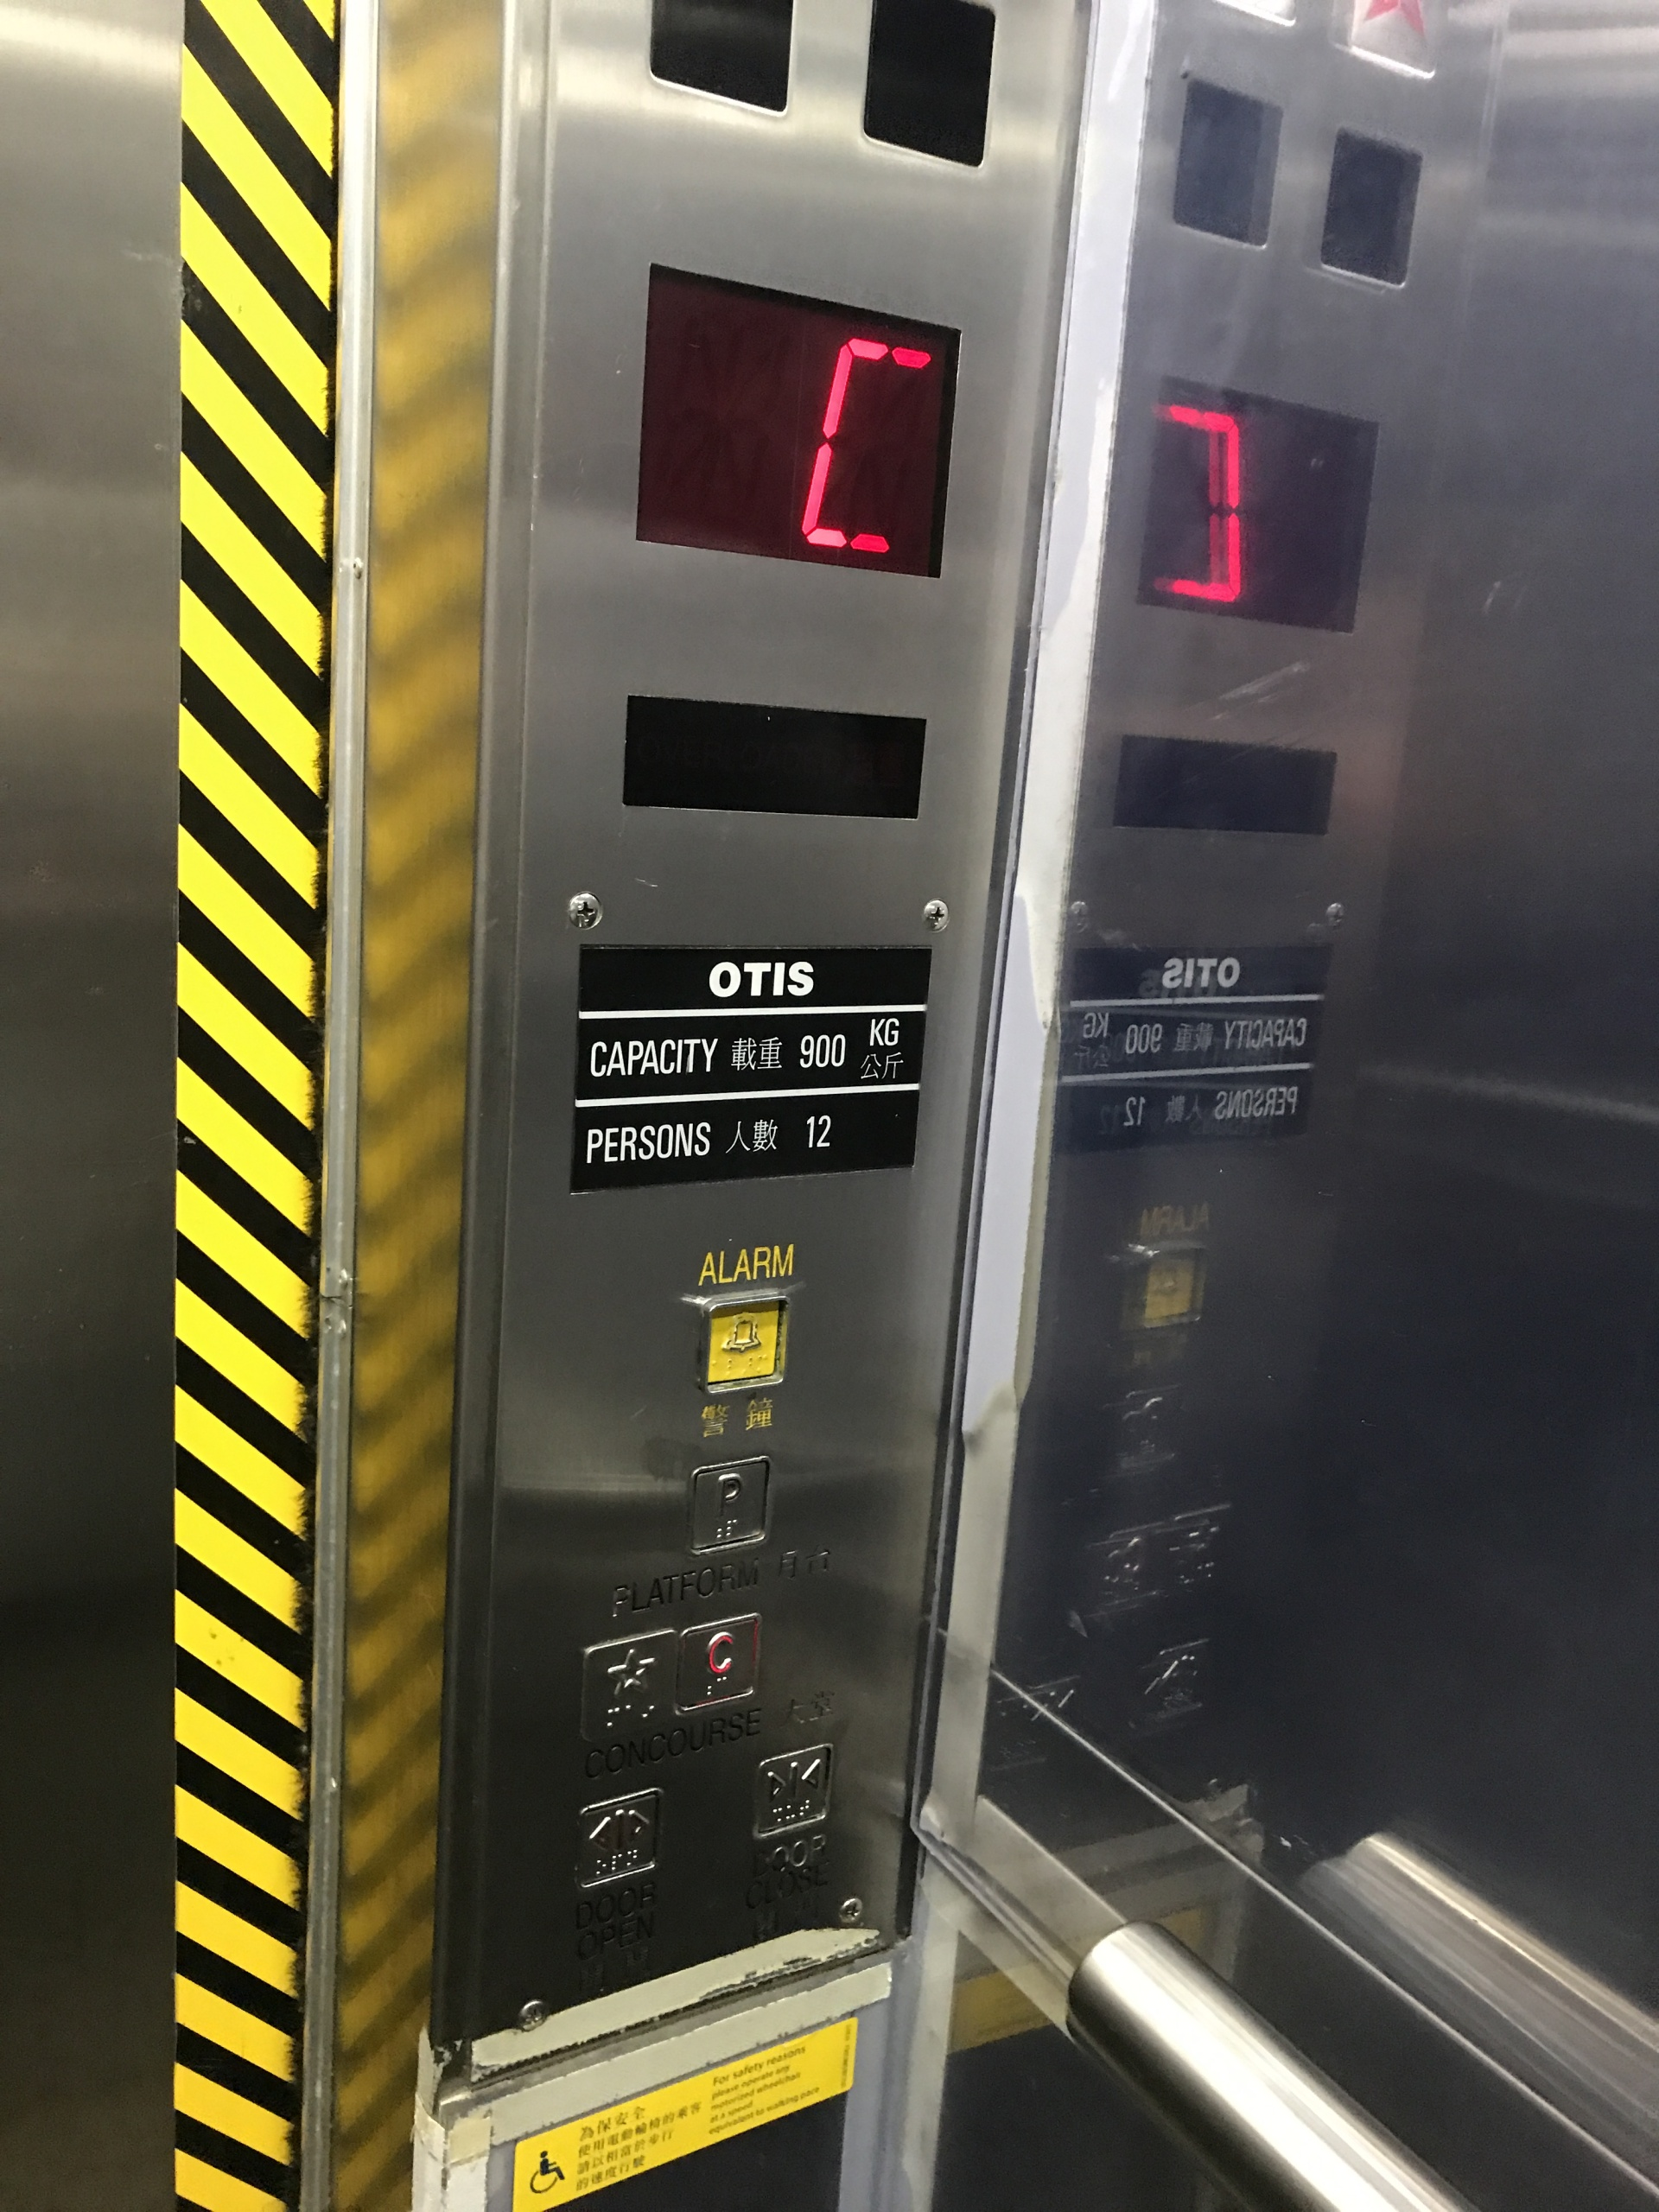C: (669, 1609, 763, 1717)
P: (685, 1449, 774, 1559)
alarm: (685, 1287, 793, 1395)
close: (744, 1742, 836, 1844)
led: (620, 242, 969, 580), (615, 678, 934, 829)
open: (570, 1784, 664, 1892)
s: (577, 1623, 678, 1749)
